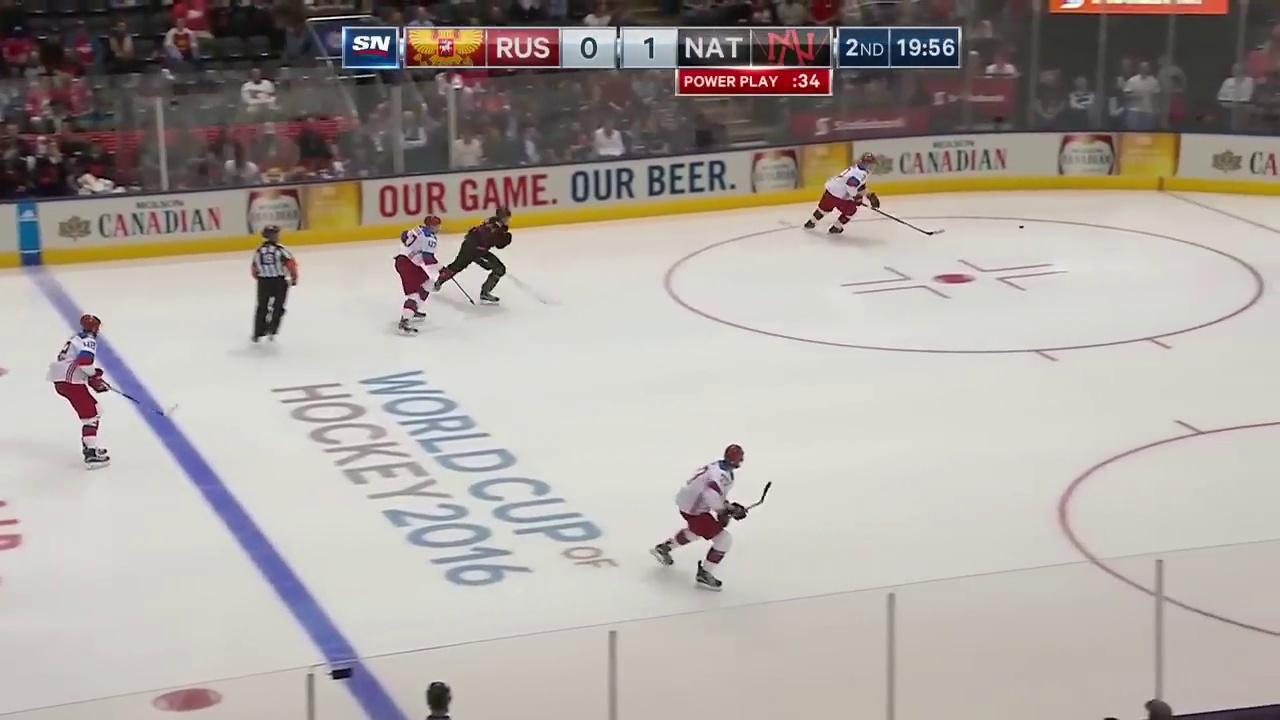ball: (1018, 225, 1025, 229)
